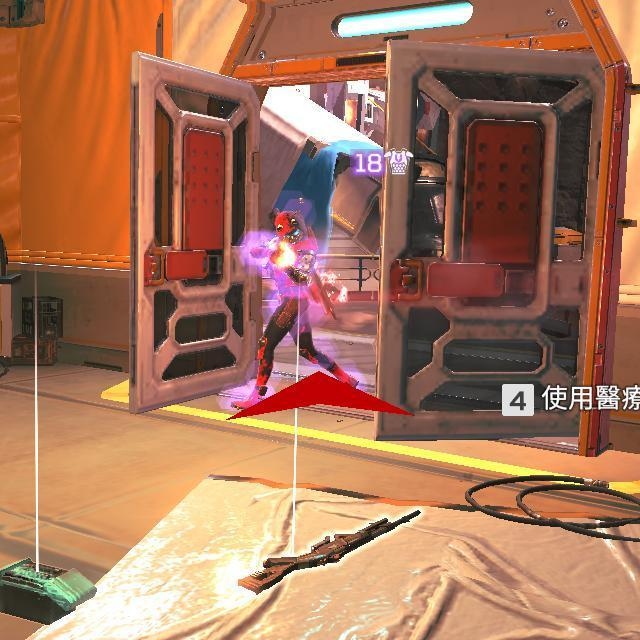avatar: (243, 206, 327, 411)
